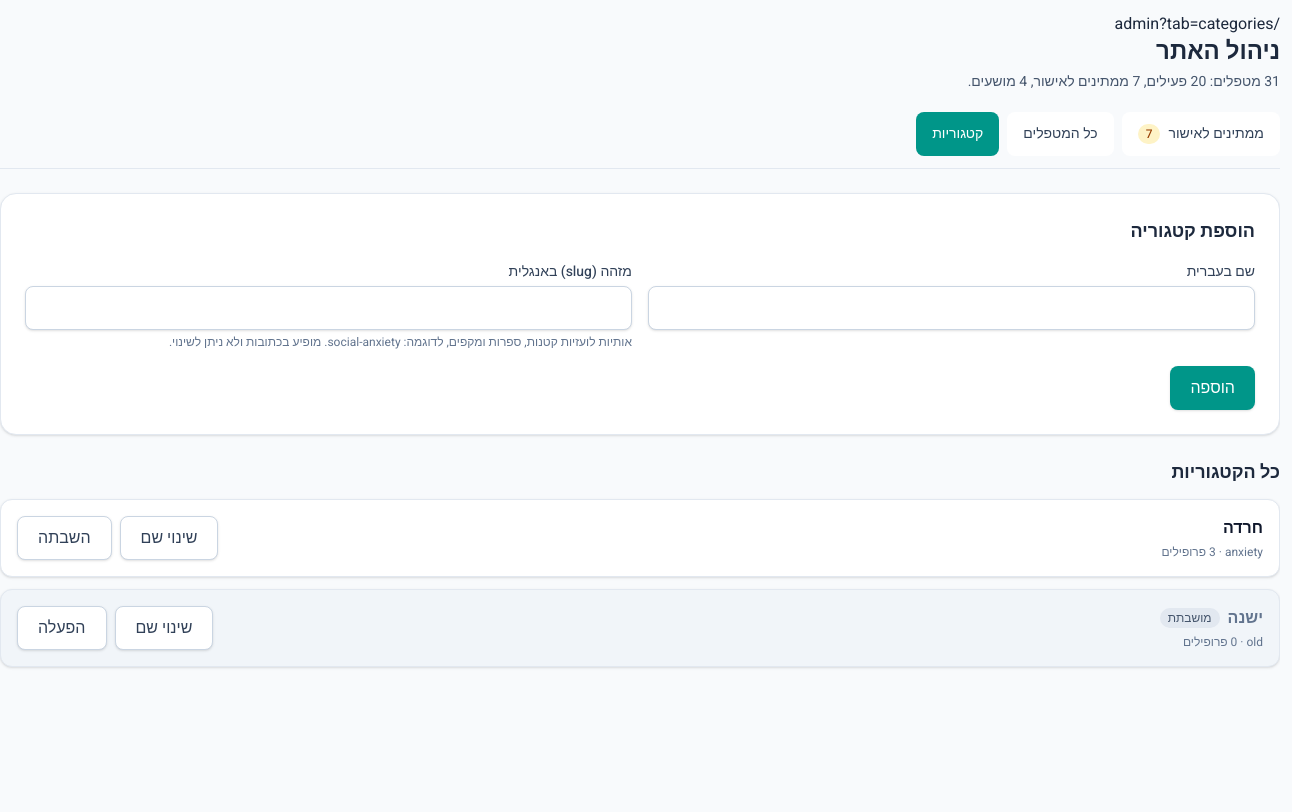
Test: AdminPage: categories › shows a Hebrew message for the server code CATEGORY_NAME_TAKEN
Expected: the heading "ניהול האתר" is shown, [1156, 34, 1280, 69]
Expected: the text "חרדה" is shown, [1223, 516, 1263, 540]
Step 1. Type "שם כלשהו" into the field labelled "שם בעברית" → (952, 308), box [648, 286, 1255, 330]
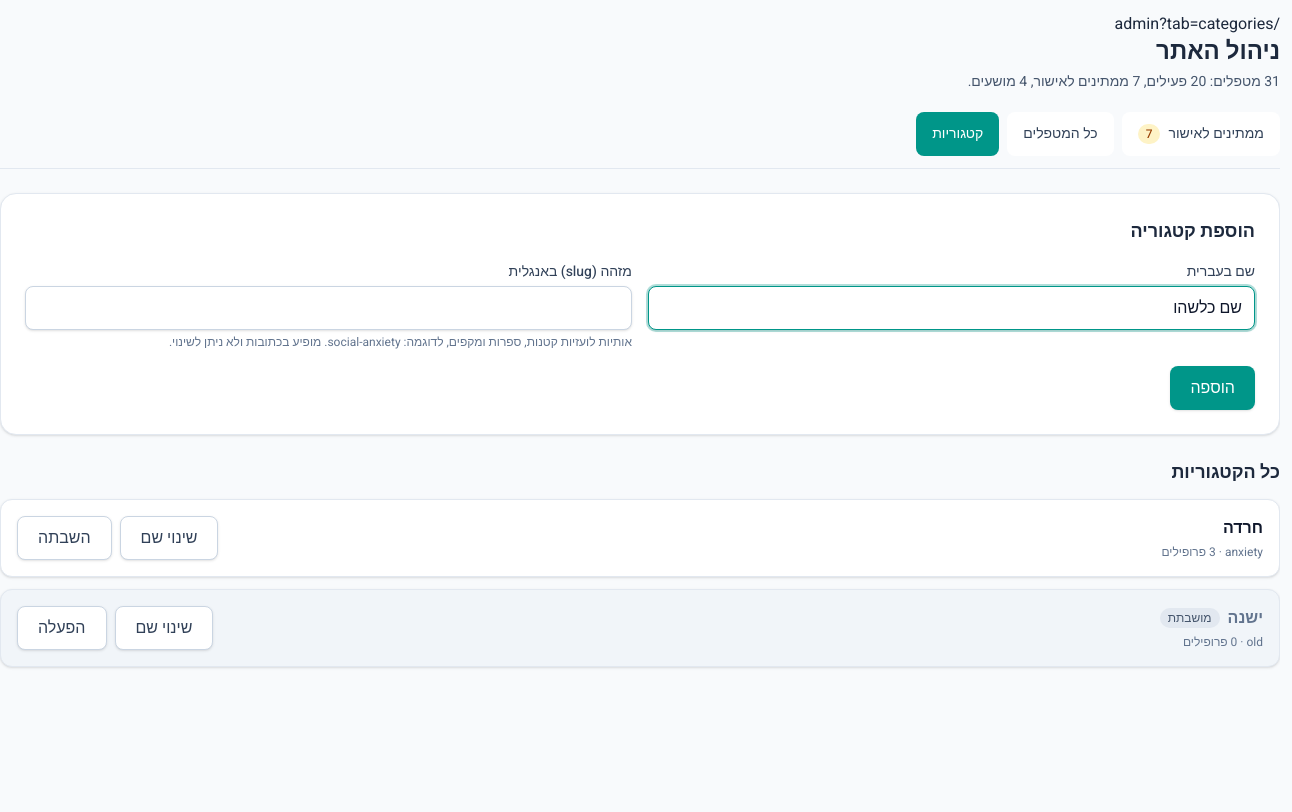
Step 2. Type "some-slug" into the field labelled "מזהה (slug) באנגלית" → (328, 308), box [25, 286, 632, 330]
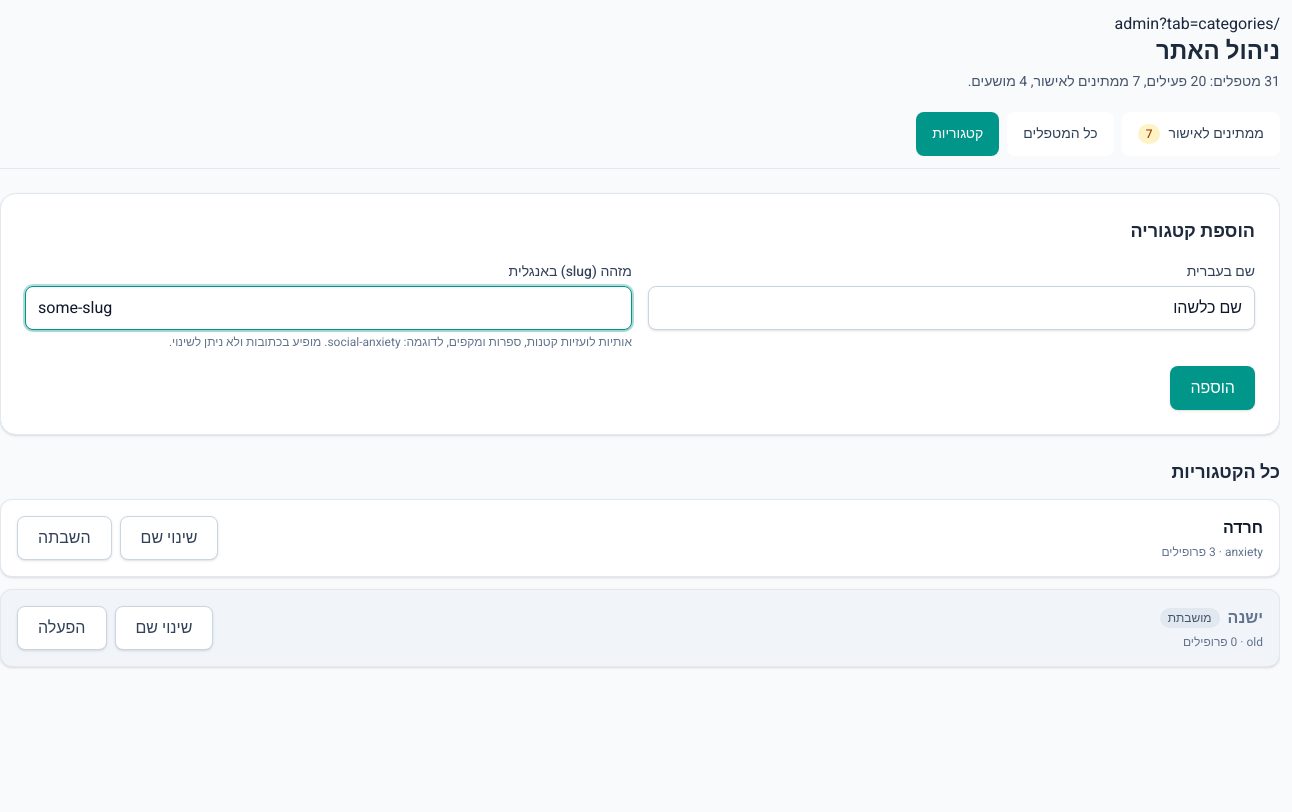
Step 3. Click the button "הוספה" → (1213, 388), box [1170, 366, 1255, 410]
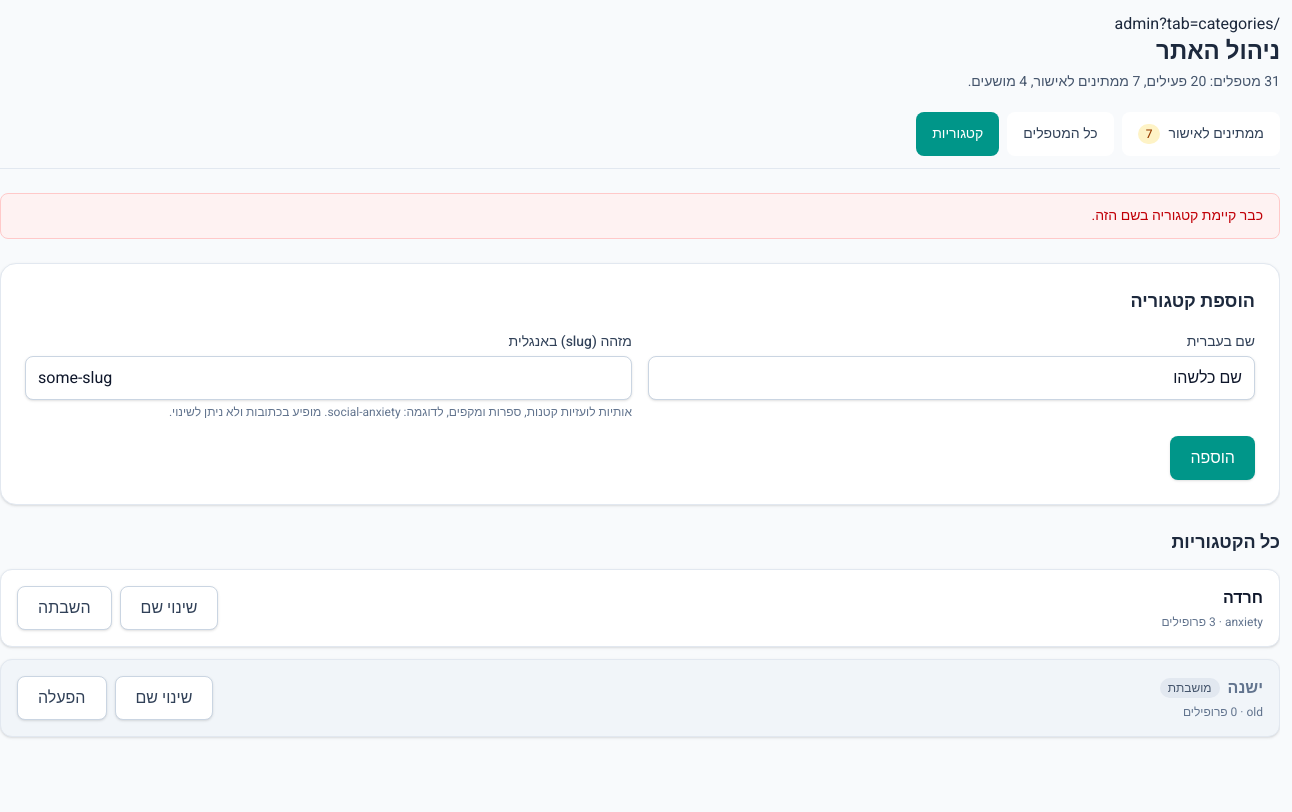
Expected: the message shows "כבר קיימת קטגוריה בשם הזה", [1092, 205, 1263, 226]
